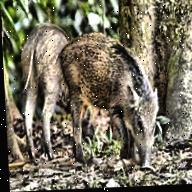boar: (56, 18, 181, 170), (8, 14, 78, 159)
